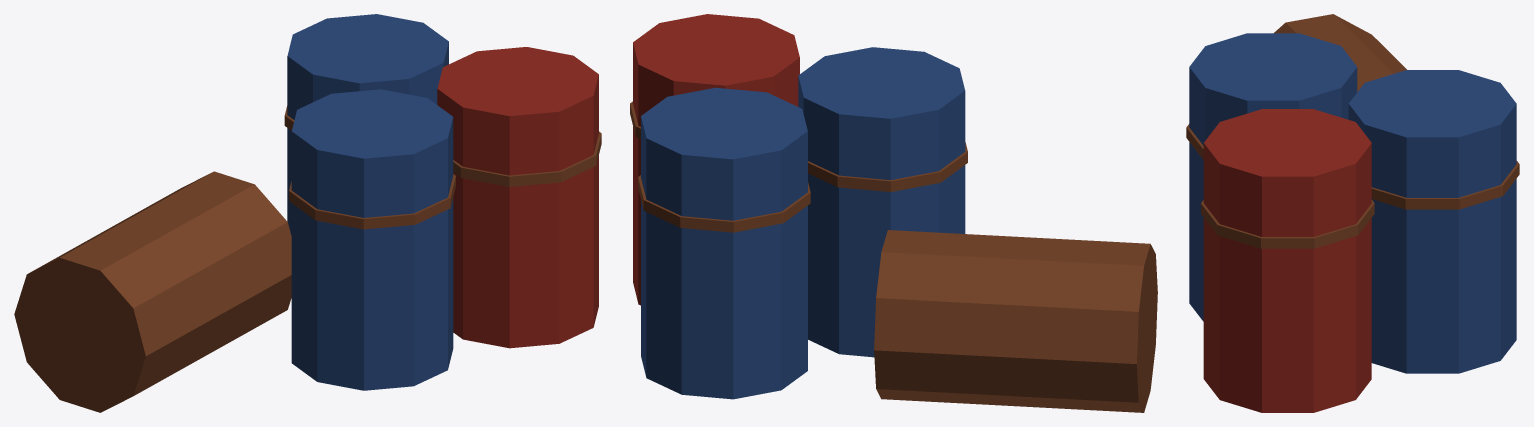
File: tambor_x4.glb
3 renders of one model, left to right at view 1: azimuth 30°, elevation 25°; view 2: azimuth 150°, elevation 25°; view 3: azimuth 270°, elevation 25°, orthographic. The views are drawn at different scales.
Parts seen in each view (by area): view 1: tambor_x4; view 2: tambor_x4; view 3: tambor_x4.
Part boxes in pixels (left/top/right/bottom): tambor_x4: left=14, top=14, right=601, bottom=412; tambor_x4: left=630, top=14, right=1157, bottom=412; tambor_x4: left=1186, top=14, right=1519, bottom=412.
Bounding box in the file's own units: 2.13 × 0.9 × 1.15.
